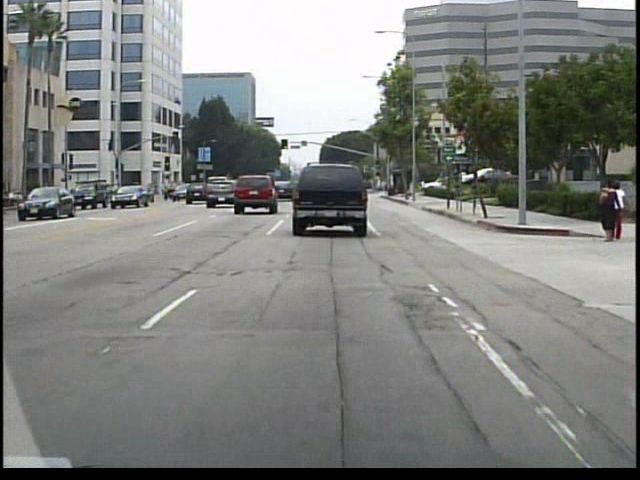person: (596, 178, 615, 244), (611, 181, 625, 241)
